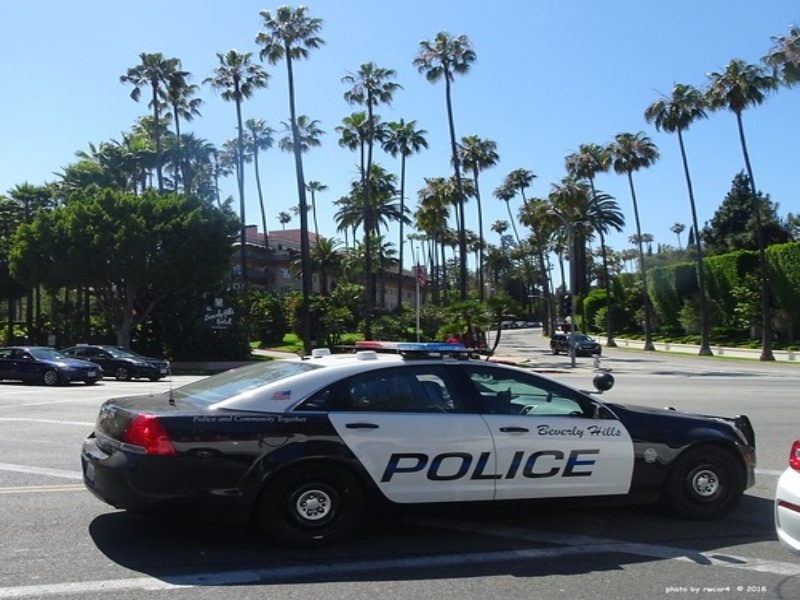normalcar: (1, 326, 173, 388)
policecar: (217, 344, 762, 531)
